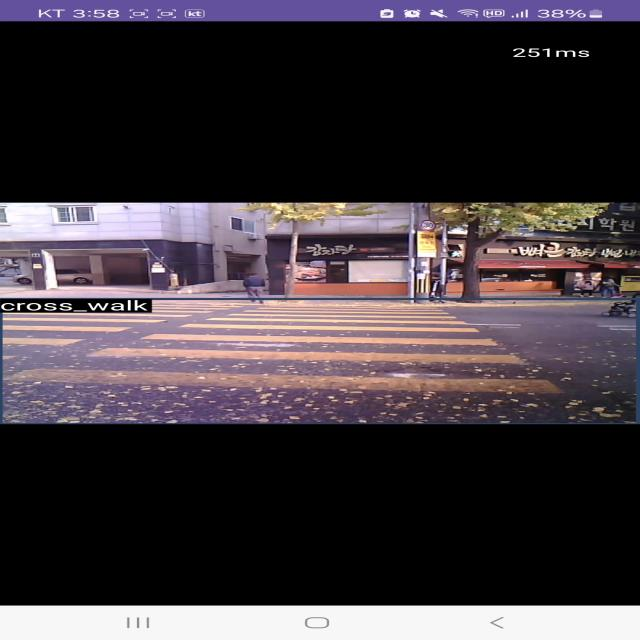crosswalk: (1, 301, 573, 398)
greenlight: (448, 243, 462, 258)
